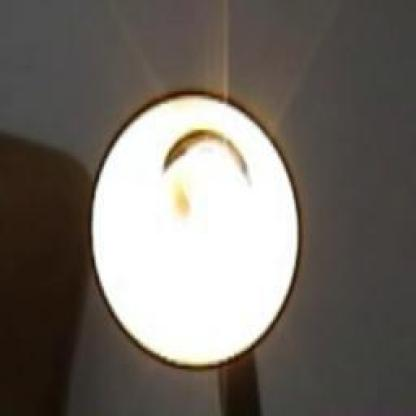other: (86, 112, 302, 361)
